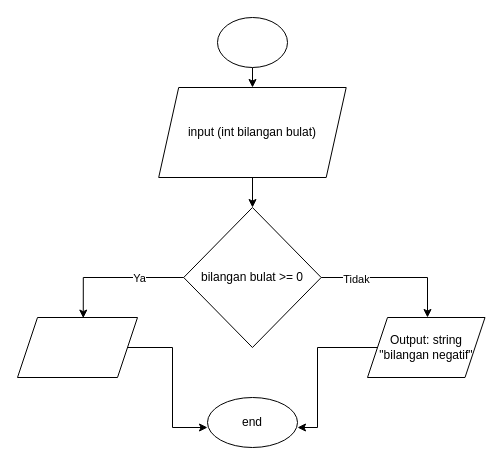
Some shapes in this 503 by 465 pixel diagram are drawn without their labels. The box of each missing label's shape, as (x1, y1, x2, y2) in pixels:
mulai: (216, 16, 288, 68)
Output: string "bilangan positif": (16, 316, 138, 378)
